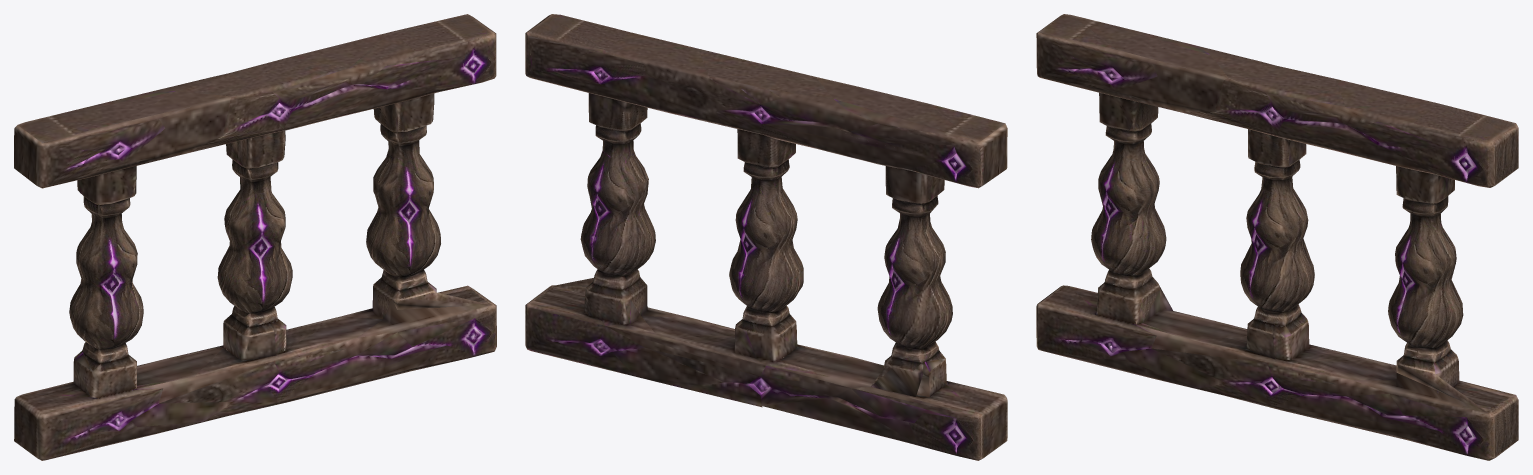
File: throne-banister.glb
3 renders of one model, left to right at view 1: azimuth 30°, elevation 25°; view 2: azimuth 150°, elevation 25°; view 3: azimuth 330°, elevation 25°, orthographic.
Parts seen in each view (by area): view 1: mesh_0; view 2: mesh_0; view 3: mesh_0.
Boxes of the visible parts, x1,y1,x2,y2 form: mesh_0: (14,14,496,460); mesh_0: (525,14,1007,460); mesh_0: (1036,14,1518,460).
Bounding box in the file's own units: 2 × 1.33 × 0.2873.
1 material, 1 textured.
